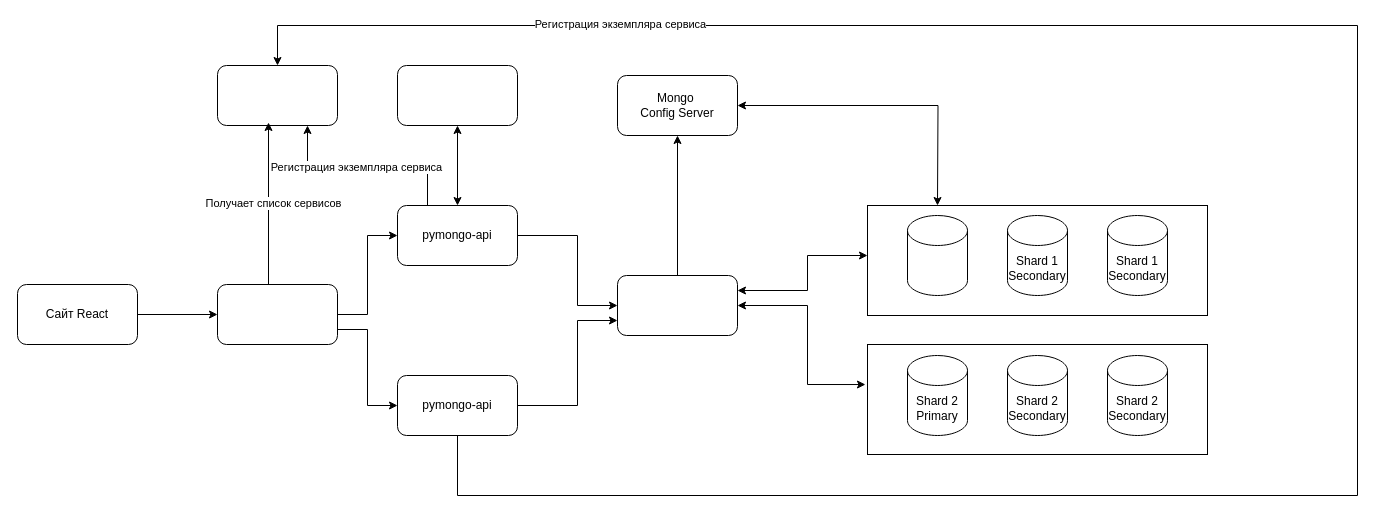
Image size: 1383x521. Some labels were removed from this diagram. The shapes that lost their labels are listed below. From the top down, each one's box as (x1, y1, x2, y2) in pixels, then its label:
(216, 64, 338, 126): Consul
(396, 64, 518, 126): Redis
(906, 214, 968, 296): Shard 1 Primary
(216, 284, 338, 344): Api Gateway
(616, 274, 738, 336): Mongo router
